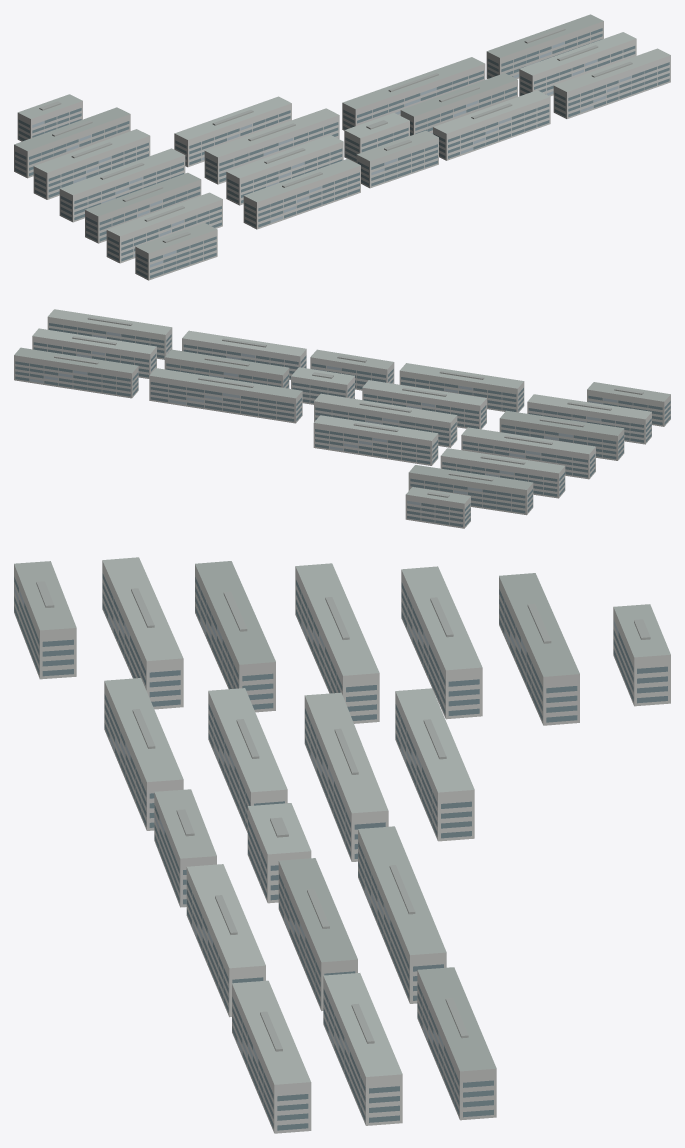
Rendered from apt-a13594701.glb.
3 renders of one model, top to bottom at view 1: azimuth 30°, elevation 25°; view 2: azimuth 150°, elevation 25°; view 3: azimuth 270°, elevation 25°, orthographic. The views are drawn at different scales.
Visible parts, largest first — view 1: apt-a13594701; view 2: apt-a13594701; view 3: apt-a13594701.
Boxes of the visible parts, x1,y1,x2,y2 form: apt-a13594701: (14, 14, 670, 280); apt-a13594701: (14, 309, 670, 528); apt-a13594701: (14, 557, 670, 1133).
Size of the model in its own units: 353 by 15.94 by 186.
